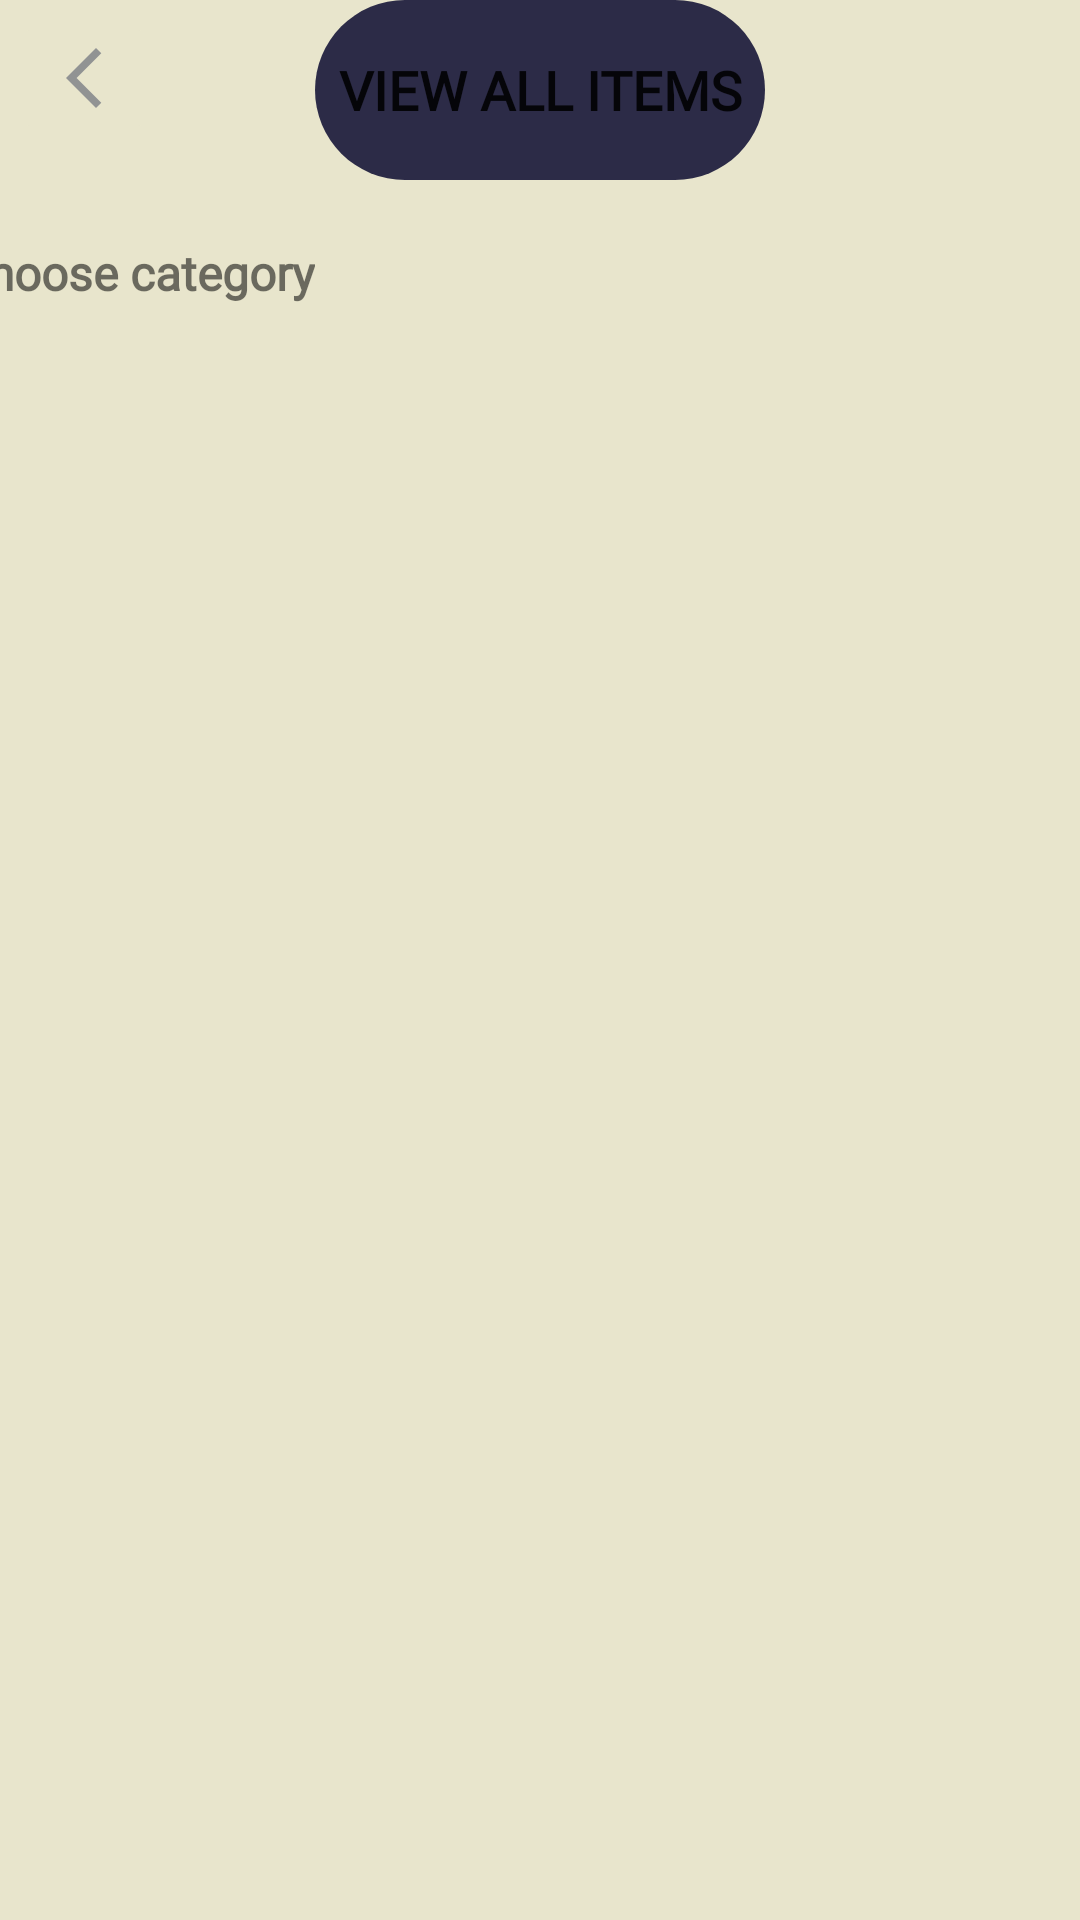

Locate icon controls on the screen. Image size 1080×1920, boxes as (x1, y1, x2, y2).
back: (66, 48, 101, 108)
